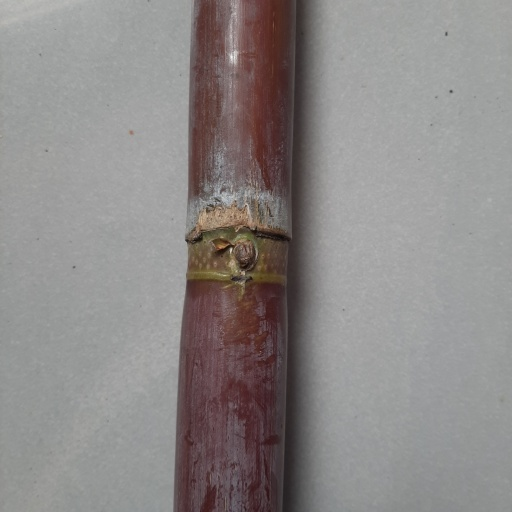Bud: (232, 239, 256, 270)
